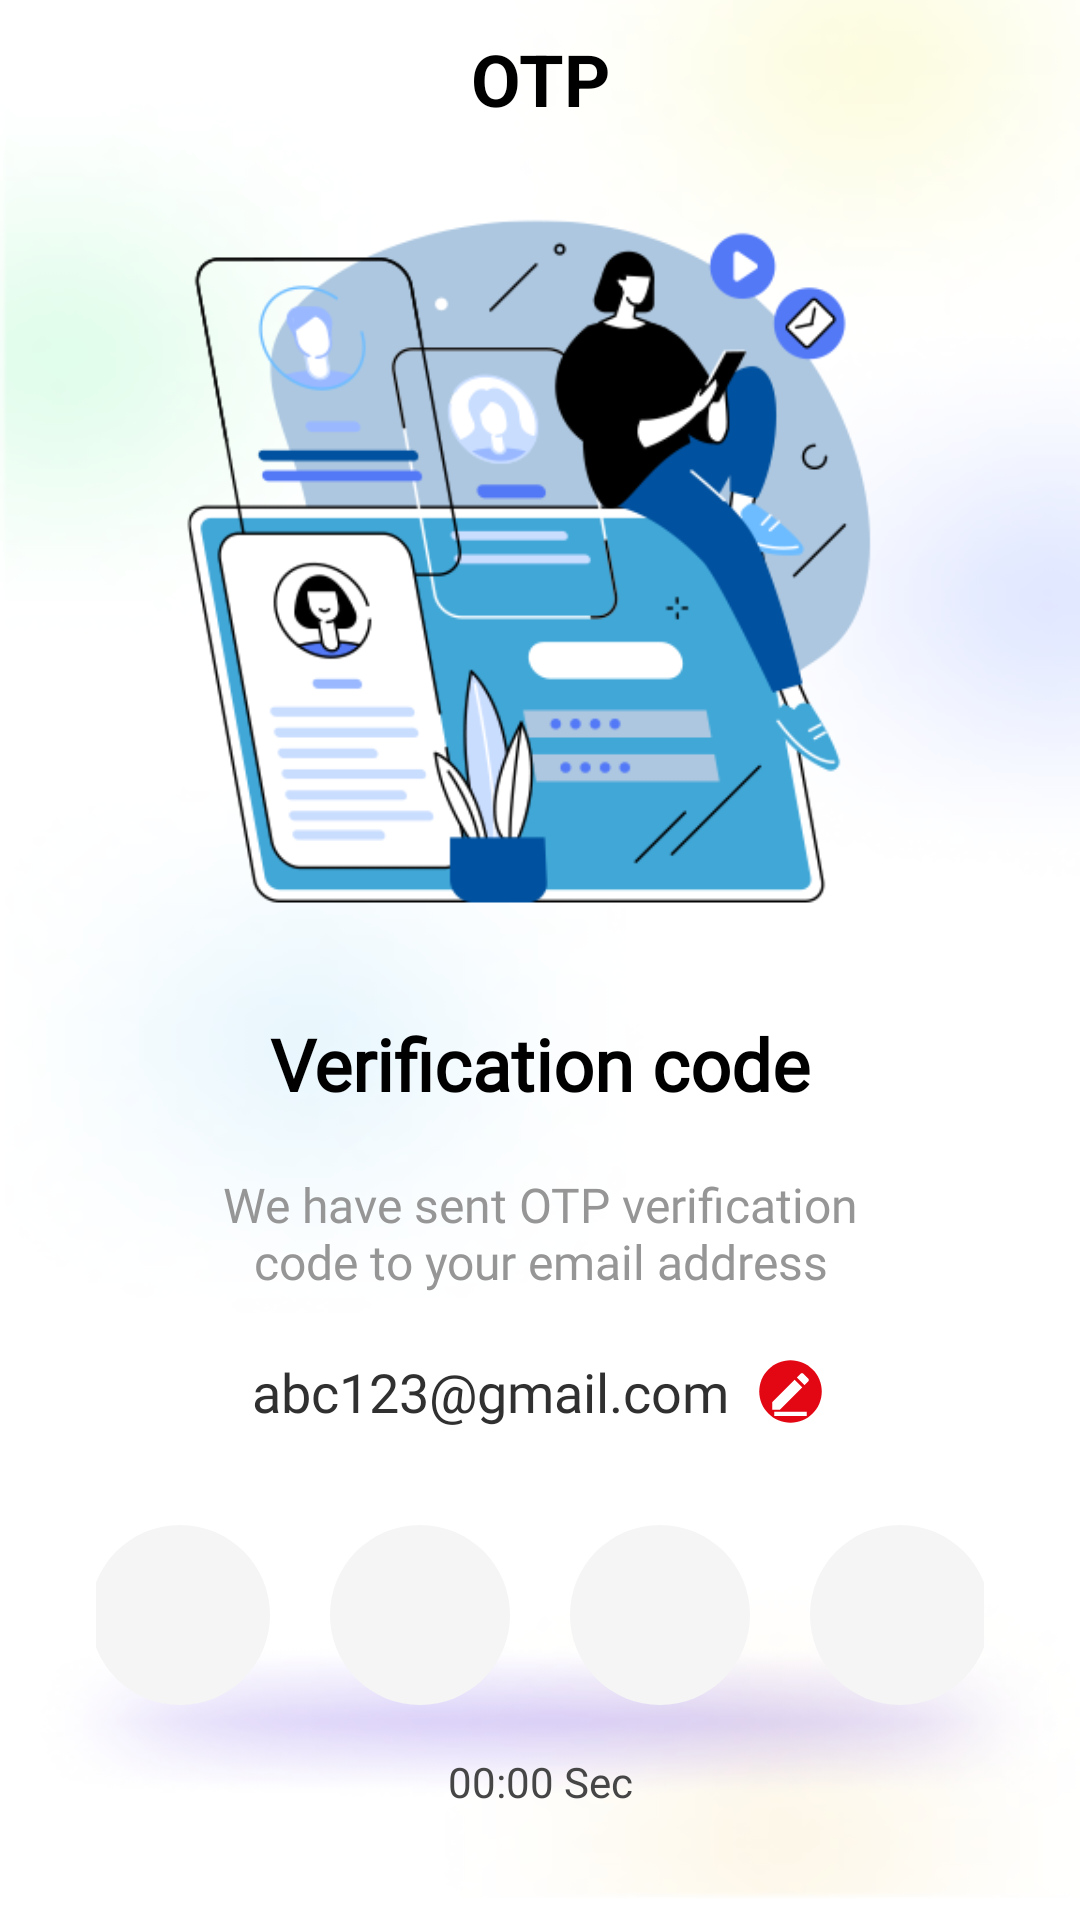

Point at icon controls on the screen. Image size 1080*1920, points as (x,y).
edit circle: (790,1391)
